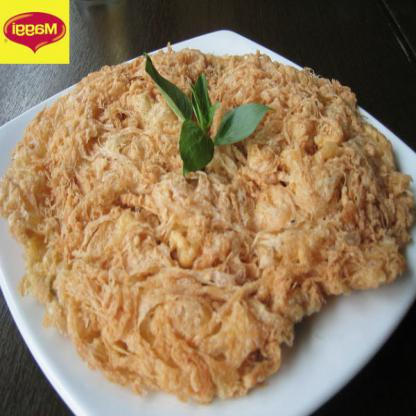Omelette: (5, 58, 415, 391)
